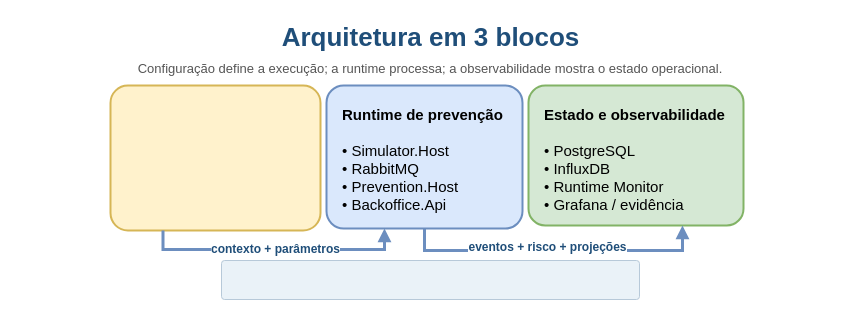
This 861x317 diagram has some shape labels left out. Each missing label, with the centre of its shape:
"Configuração e cenários • Área piloto • Sensores • Cenários A/B/C • RunOverrides" goes at (x=215, y=157).
"Separar configuração, execução e estado observável." goes at (x=430, y=280).
